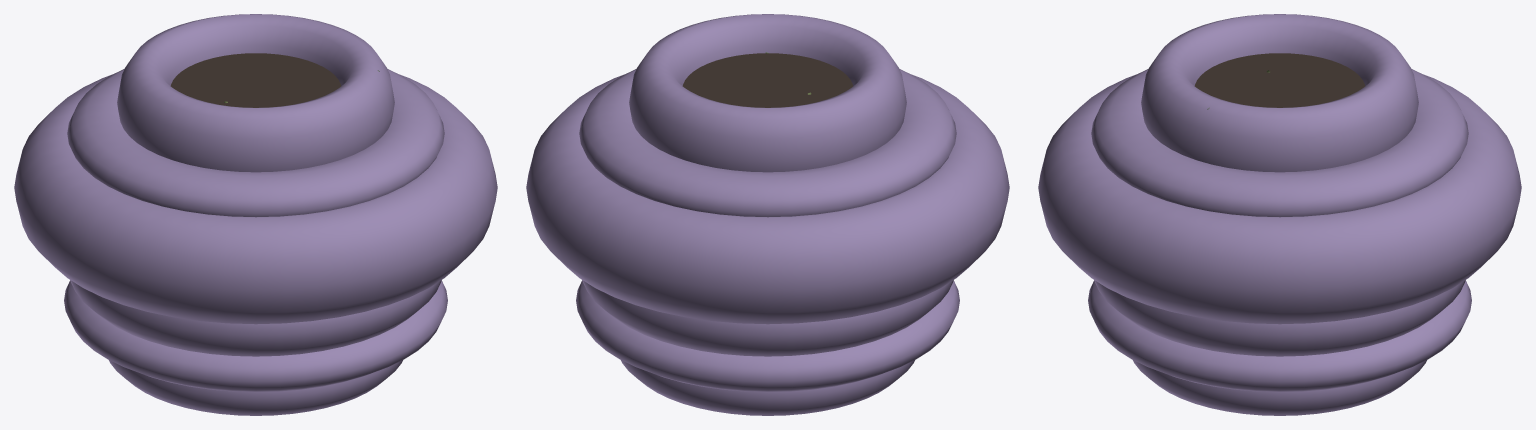
The model's file is grow_plant.glb.
3 views of the same model, side by side, from view 1: azimuth 30°, elevation 25°; view 2: azimuth 150°, elevation 25°; view 3: azimuth 270°, elevation 25° (orthographic).
Parts seen in each view (by area): view 1: Vase, Soil; view 2: Vase, Soil; view 3: Vase, Soil.
Part boxes in pixels (x1,y1,x2,y2): Vase: (14, 14, 497, 415); Soil: (170, 53, 341, 107); Vase: (526, 14, 1009, 415); Soil: (682, 53, 853, 107); Vase: (1038, 14, 1521, 415); Soil: (1194, 53, 1365, 107).
Size of what is drawn, in the model's own units: 3.15 by 2.15 by 3.15.
